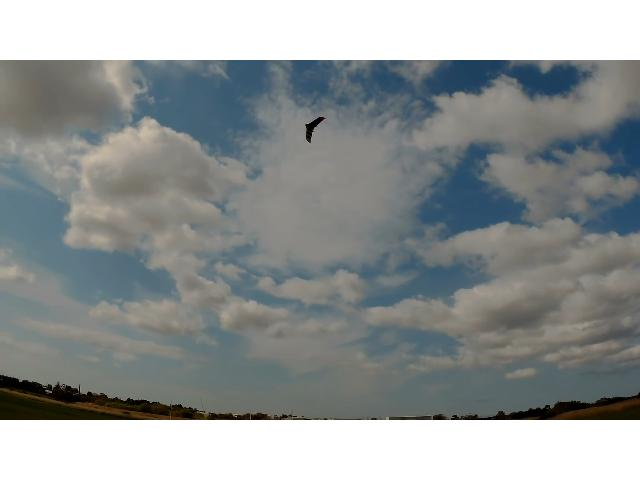Anti-Drone: (304, 117, 326, 143)
